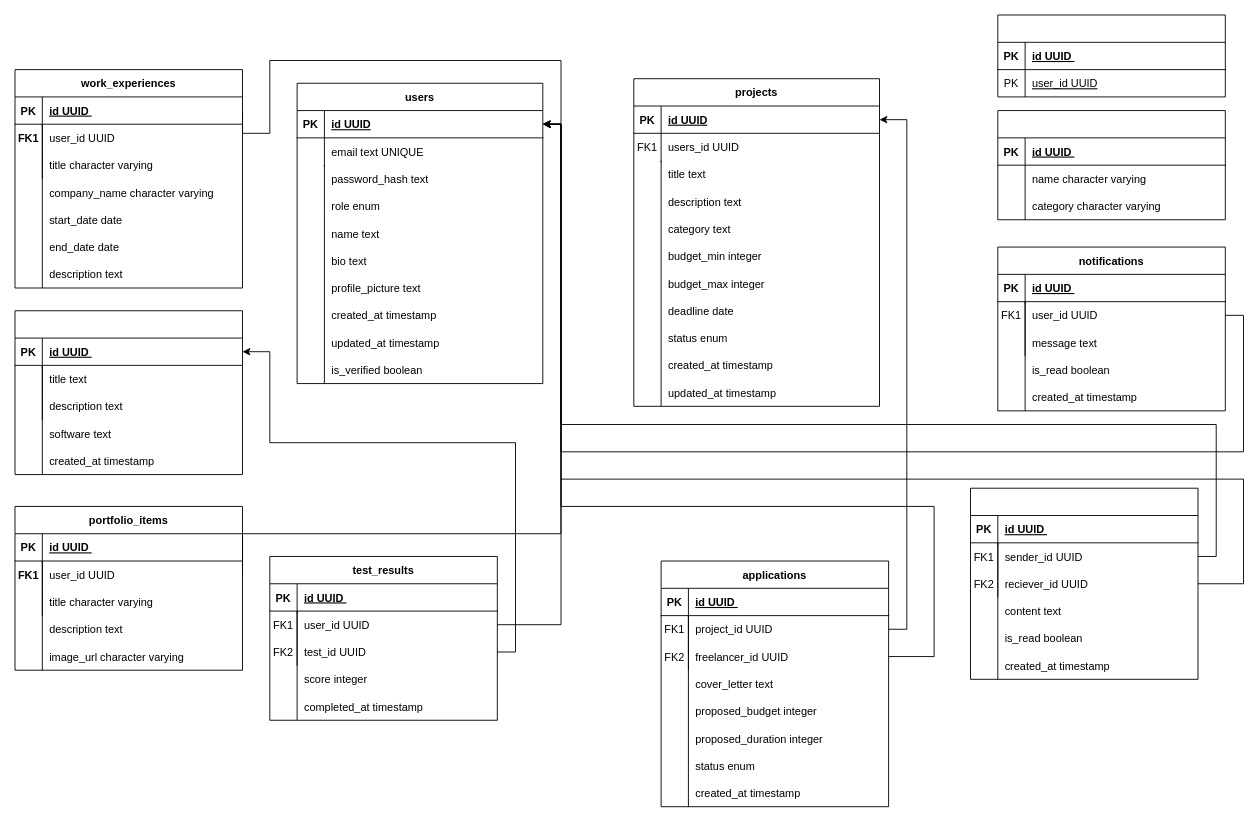
Image size: 1259x822. Some labels were removed from this diagram. Each missing label, with the box of its shape:
messages: (970, 487, 1198, 679)
skill_tests: (14, 310, 243, 475)
skills: (997, 110, 1225, 220)
user_skills: (997, 14, 1225, 97)
